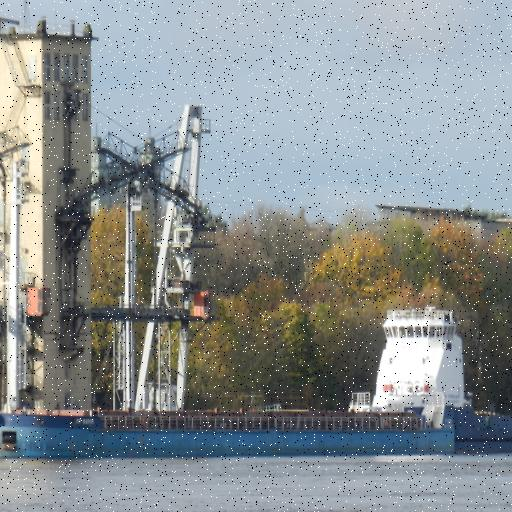tugboat: (1, 300, 512, 472)
